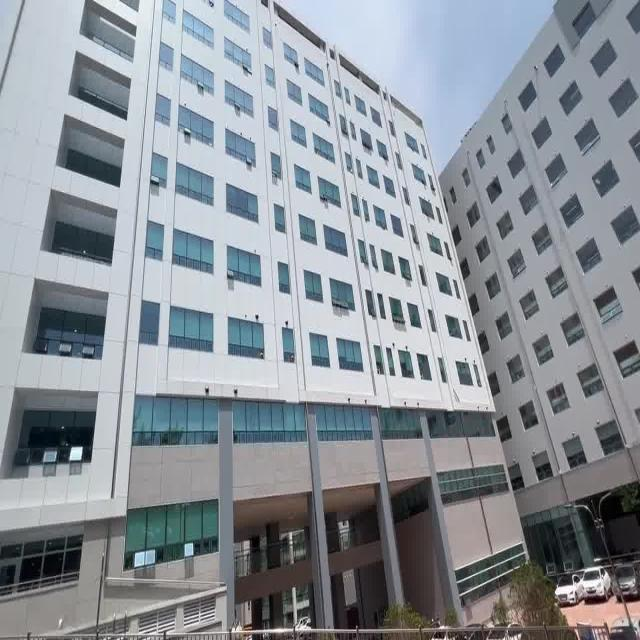building: (6, 7, 640, 633)
